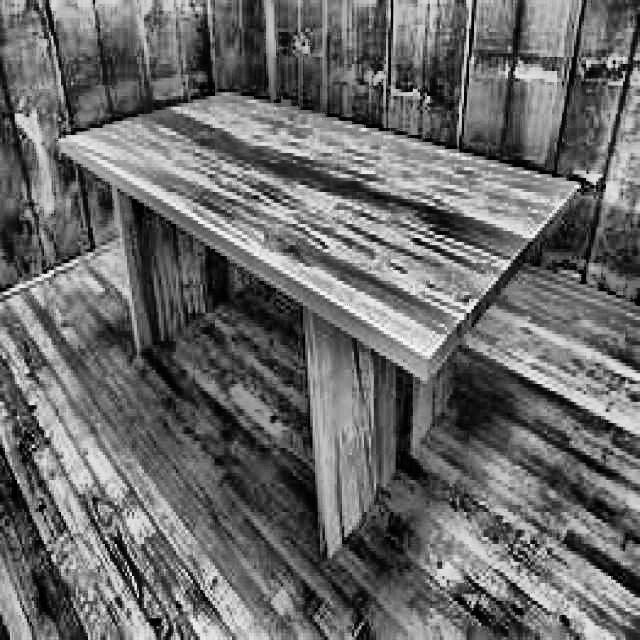mesa: (65, 78, 572, 530)
